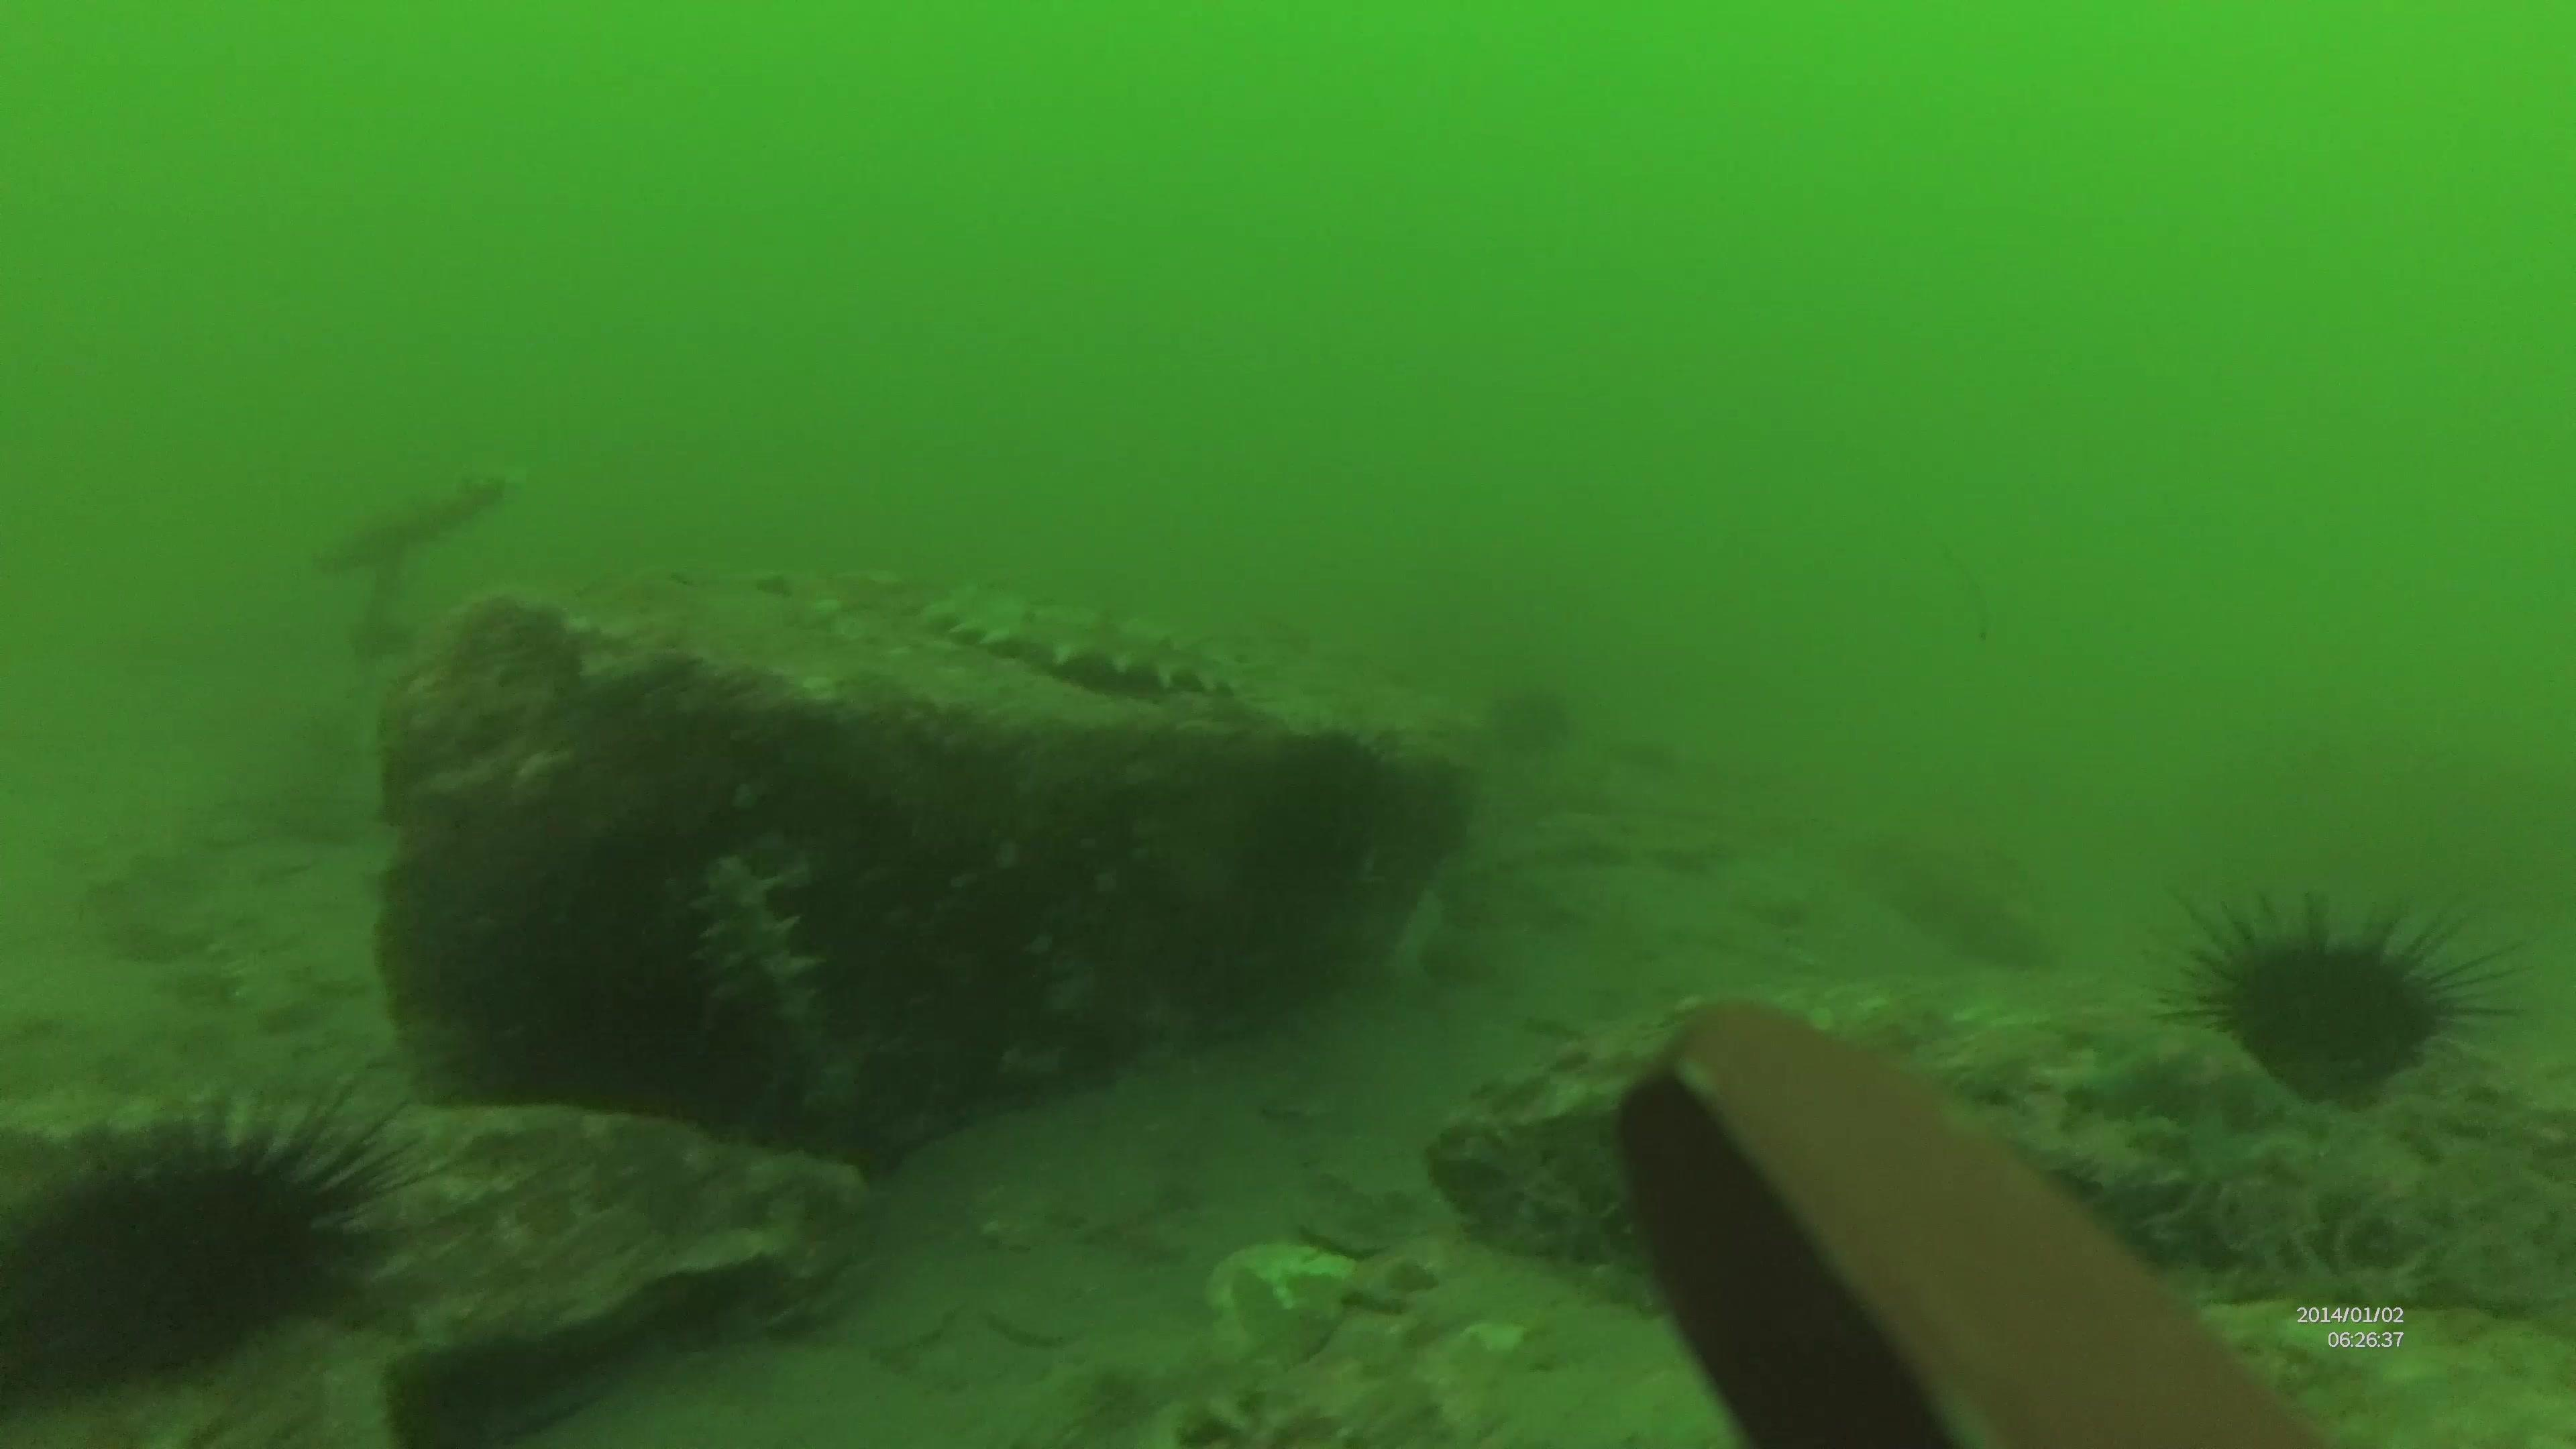echinus: (0, 1092, 448, 1382), (2164, 874, 2496, 1100)
holothurian: (679, 855, 858, 1132), (916, 584, 1249, 702)
